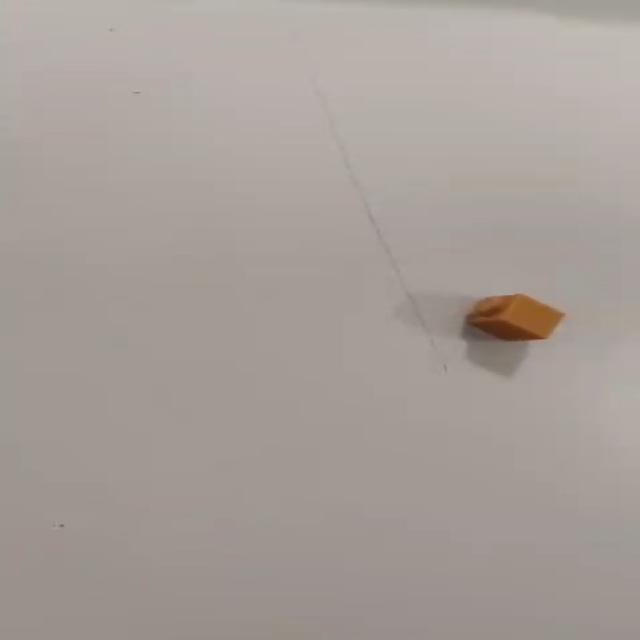C1x1x1: (463, 292, 565, 342)
